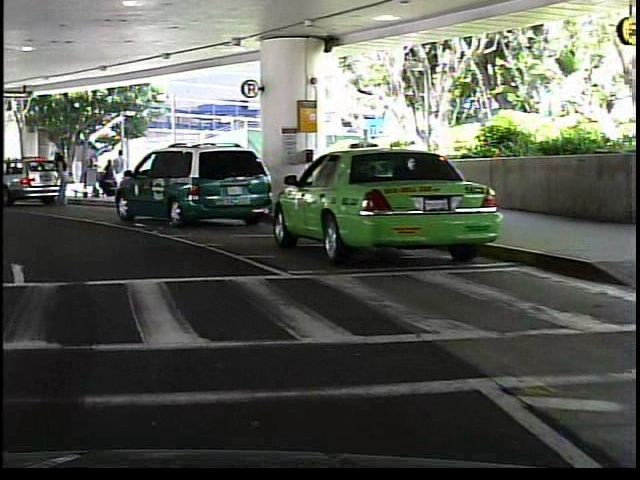person: (50, 151, 69, 207)
